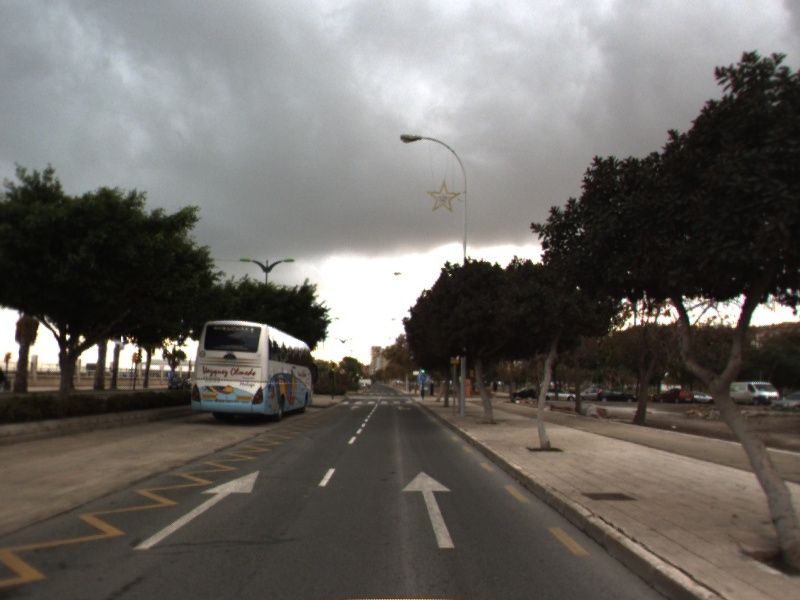STRAIGHT: (128, 467, 262, 553), (399, 469, 460, 549)
